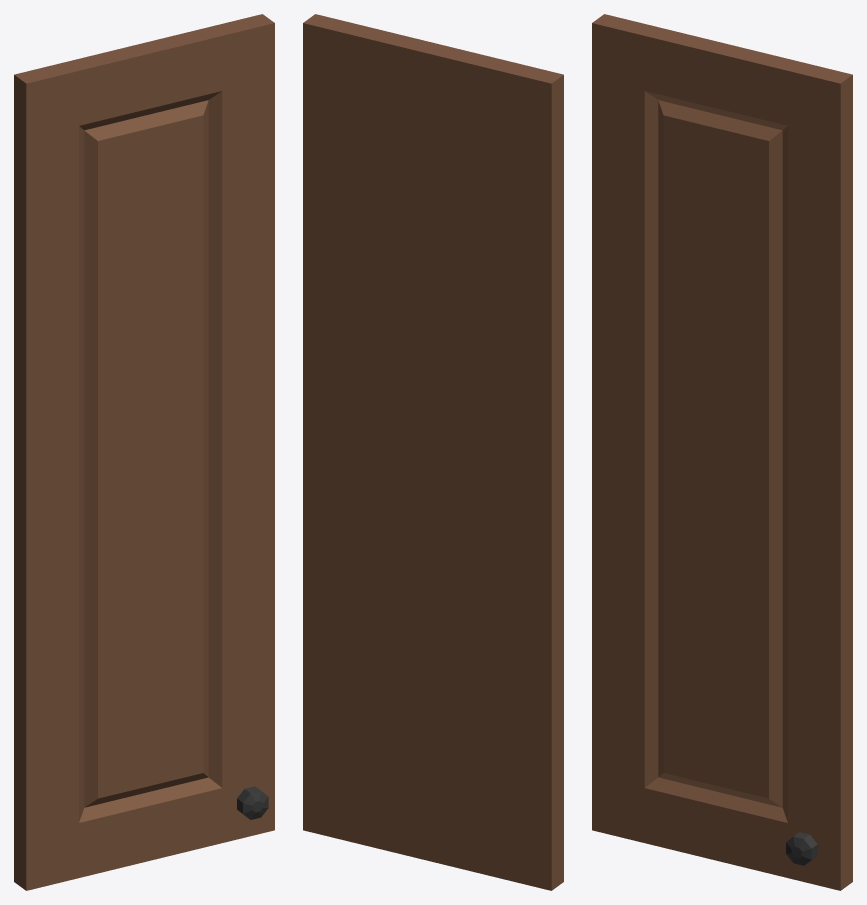
Rendered from Door3_C2_14.fbx.
3 renders of one model, left to right at view 1: azimuth 30°, elevation 25°; view 2: azimuth 150°, elevation 25°; view 3: azimuth 330°, elevation 25°, orthographic.
Visible parts, largest first — view 1: Door3_C2_14; view 2: Door3_C2_14; view 3: Door3_C2_14.
Boxes of the visible parts, x1=… form: Door3_C2_14: x1=14, y1=14, x2=274, y2=890; Door3_C2_14: x1=303, y1=14, x2=563, y2=890; Door3_C2_14: x1=592, y1=14, x2=852, y2=890.
Bounding box in the file's own units: 29 × 90 × 5.19.
